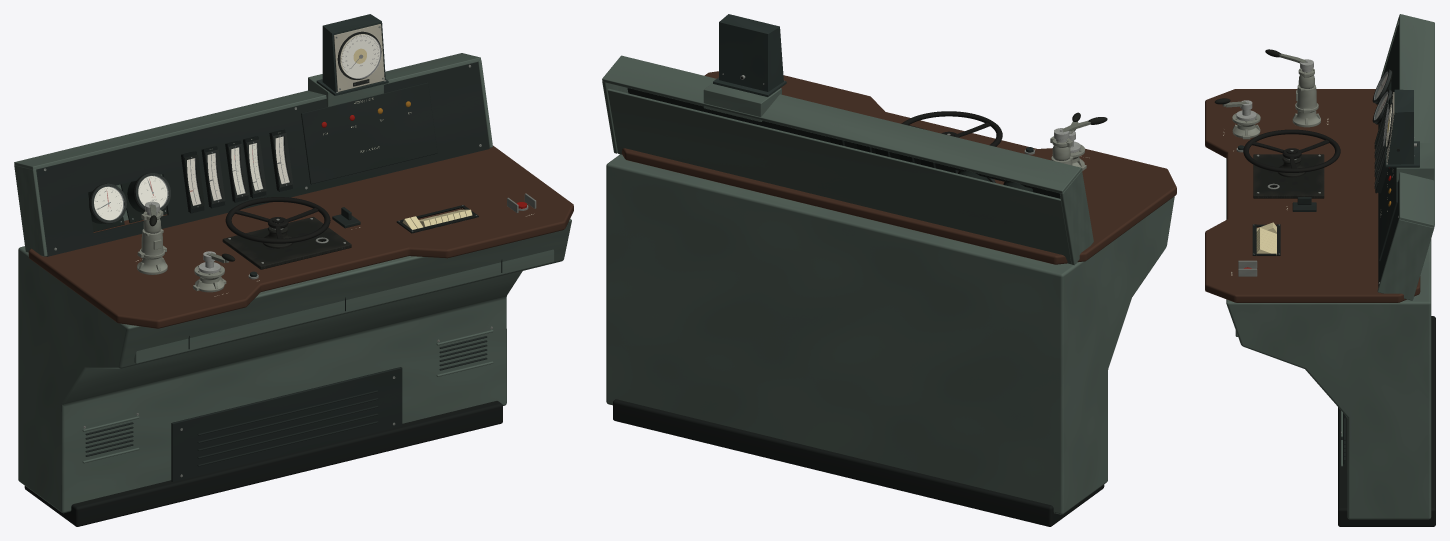
File: main_console_study.glb
The picture shows the model from 3 angles, left to right: view 1: azimuth 30°, elevation 25°; view 2: azimuth 150°, elevation 25°; view 3: azimuth 270°, elevation 25°; orthographic projection. The views are drawn at different scales.
Visible parts, largest first — view 1: Continuous_Folded_Console_Shell, Contoured_Control_Deck, Removable_Instrument_Panel, Knee_Recess_Kick_Plate, Recessed_Toe_Plinth, Auxiliary_Control_Plate, Upper_Front_Service_Fascia, Instrument_Bank_Top_Return, Fixed_Mounting_Plate, Instrument_Bank_Side_Cheek, Fixed_Tapered_Rear_Housing, Fixed_Protective_Glass.003 (+9 smaller); view 2: Continuous_Folded_Console_Shell, Instrument_Bank_Rear_Housing, Contoured_Control_Deck, Instrument_Bank_Top_Return, Recessed_Toe_Plinth, Fixed_Tapered_Rear_Housing, Instrument_Bank_Side_Cheek, Removable_Instrument_Panel, Speedometer_Stand, Moving_Handwheel_Rim; view 3: Contoured_Control_Deck, Continuous_Folded_Console_Shell, Instrument_Bank_Top_Return, Instrument_Bank_Side_Cheek.001, Recessed_Toe_Plinth, Fixed_Mounting_Plate, Fixed_Tapered_Rear_Housing, Moving_Handwheel_Rim, Removable_Instrument_Panel, Auxiliary_Control_Plate, Tall_Lower_Casting, Speedometer_Stand (+2 smaller).
Part boxes in pixels (bbox=[...]): Continuous_Folded_Console_Shell: bbox=[18, 218, 571, 513]; Contoured_Control_Deck: bbox=[28, 145, 573, 328]; Removable_Instrument_Panel: bbox=[36, 62, 489, 256]; Knee_Recess_Kick_Plate: bbox=[171, 367, 402, 481]; Recessed_Toe_Plinth: bbox=[24, 401, 502, 526]; Auxiliary_Control_Plate: bbox=[301, 82, 437, 184]; Upper_Front_Service_Fascia: bbox=[134, 249, 554, 363]; Instrument_Bank_Top_Return: bbox=[14, 53, 481, 169]; Fixed_Mounting_Plate: bbox=[222, 217, 351, 269]; Instrument_Bank_Side_Cheek: bbox=[14, 165, 47, 256]; Fixed_Tapered_Rear_Housing: bbox=[322, 14, 385, 92]; Fixed_Protective_Glass.003: bbox=[342, 35, 381, 78]; Continuous_Folded_Console_Shell: bbox=[606, 154, 1174, 514]; Instrument_Bank_Rear_Housing: bbox=[607, 88, 1071, 264]; Contoured_Control_Deck: bbox=[621, 71, 1176, 264]; Instrument_Bank_Top_Return: bbox=[602, 55, 1081, 193]; Recessed_Toe_Plinth: bbox=[613, 399, 1104, 526]; Fixed_Tapered_Rear_Housing: bbox=[719, 14, 783, 91]; Instrument_Bank_Side_Cheek: bbox=[1059, 170, 1093, 265]; Removable_Instrument_Panel: bbox=[627, 88, 1060, 198]; Speedometer_Stand: bbox=[703, 83, 781, 121]; Moving_Handwheel_Rim: bbox=[901, 111, 1002, 146]; Contoured_Control_Deck: bbox=[1205, 89, 1420, 302]; Continuous_Folded_Console_Shell: bbox=[1226, 158, 1431, 519]; Instrument_Bank_Top_Return: bbox=[1399, 14, 1434, 227]; Instrument_Bank_Side_Cheek.001: bbox=[1377, 219, 1434, 300]; Recessed_Toe_Plinth: bbox=[1338, 316, 1435, 526]; Fixed_Mounting_Plate: bbox=[1253, 154, 1324, 198]; Fixed_Tapered_Rear_Housing: bbox=[1387, 89, 1413, 164]; Moving_Handwheel_Rim: bbox=[1243, 129, 1340, 172]; Removable_Instrument_Panel: bbox=[1378, 25, 1398, 287]; Auxiliary_Control_Plate: bbox=[1378, 167, 1397, 261]; Tall_Lower_Casting: bbox=[1292, 84, 1320, 127]; Speedometer_Stand: bbox=[1396, 143, 1434, 181].
Size of the model in its own units: 1.55 by 1.3 by 0.73.
63 materials, 29 textured.
